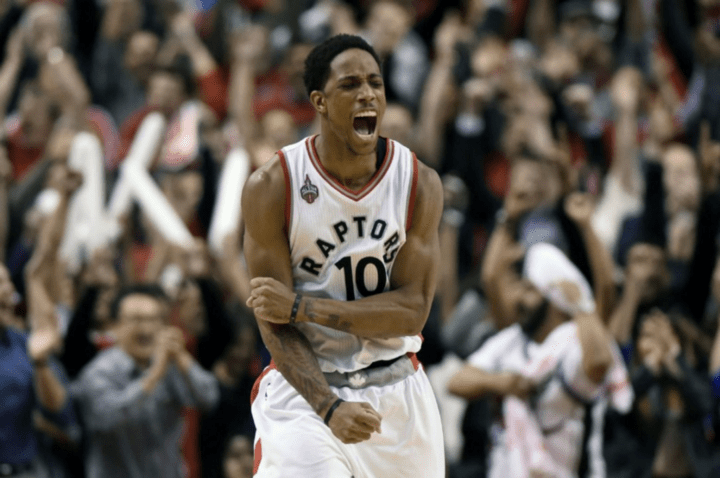player: (239, 34, 448, 477)
